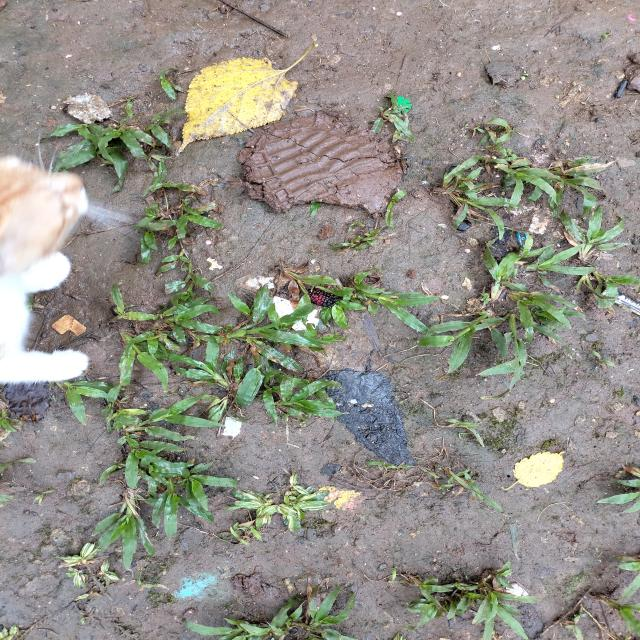bayi: (314, 76, 318, 79), (357, 68, 360, 72), (256, 31, 260, 34), (547, 65, 551, 68), (363, 67, 366, 70), (312, 74, 316, 76), (304, 82, 308, 84), (236, 38, 239, 40)
rambat atas: (464, 471, 510, 514), (445, 417, 489, 447), (361, 458, 416, 474)
rambat bawah: (41, 111, 150, 191), (220, 287, 325, 352), (426, 154, 504, 241), (485, 312, 571, 384), (180, 342, 256, 423), (347, 264, 433, 334), (115, 392, 218, 445), (420, 302, 496, 367), (98, 487, 156, 570), (134, 200, 229, 250), (272, 259, 354, 315), (112, 325, 178, 394), (150, 474, 217, 540), (268, 372, 347, 427), (106, 435, 185, 489), (558, 206, 631, 264), (474, 580, 542, 640), (501, 287, 589, 332), (186, 609, 306, 640), (495, 156, 562, 210), (301, 577, 362, 634), (387, 559, 453, 608), (548, 157, 601, 215), (477, 236, 519, 308), (521, 241, 598, 280), (100, 276, 156, 328), (53, 378, 111, 428), (154, 300, 220, 341), (587, 591, 640, 639), (372, 91, 419, 142), (591, 263, 640, 310), (474, 556, 521, 590), (476, 117, 519, 146), (383, 189, 409, 229), (156, 67, 184, 101), (159, 247, 198, 265), (573, 267, 594, 295)
